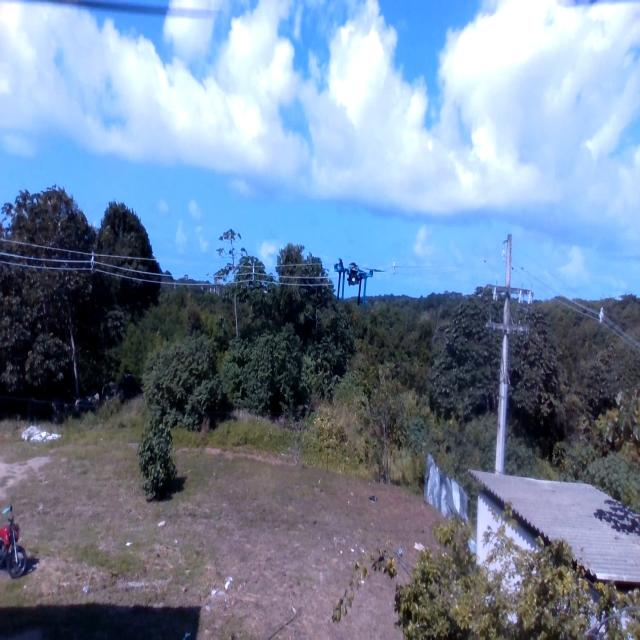-uav-: (324, 239, 384, 316)
